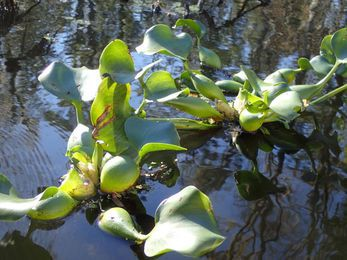water_hyacinth: (2, 14, 347, 260)
